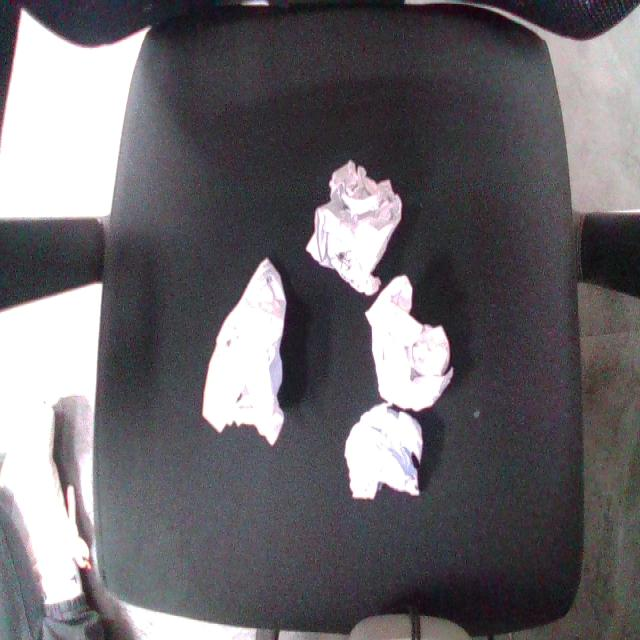paper: (168, 246, 363, 479), (328, 262, 480, 434), (282, 145, 430, 309), (339, 397, 433, 520)
